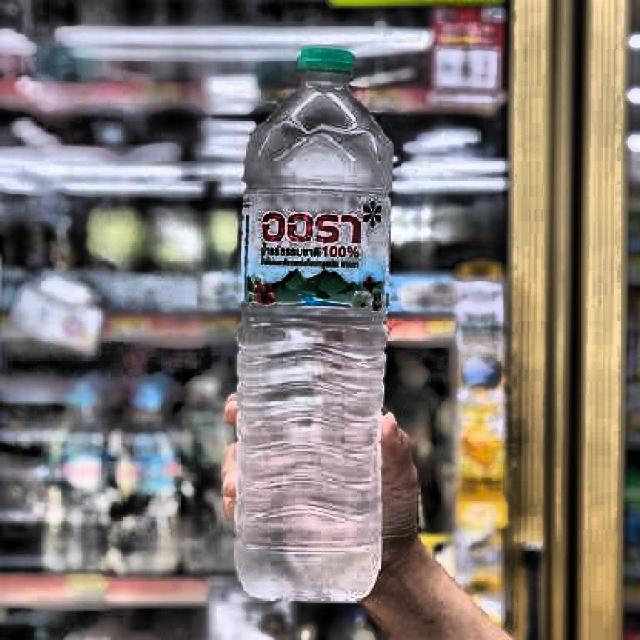Bottles: (207, 26, 432, 636)
